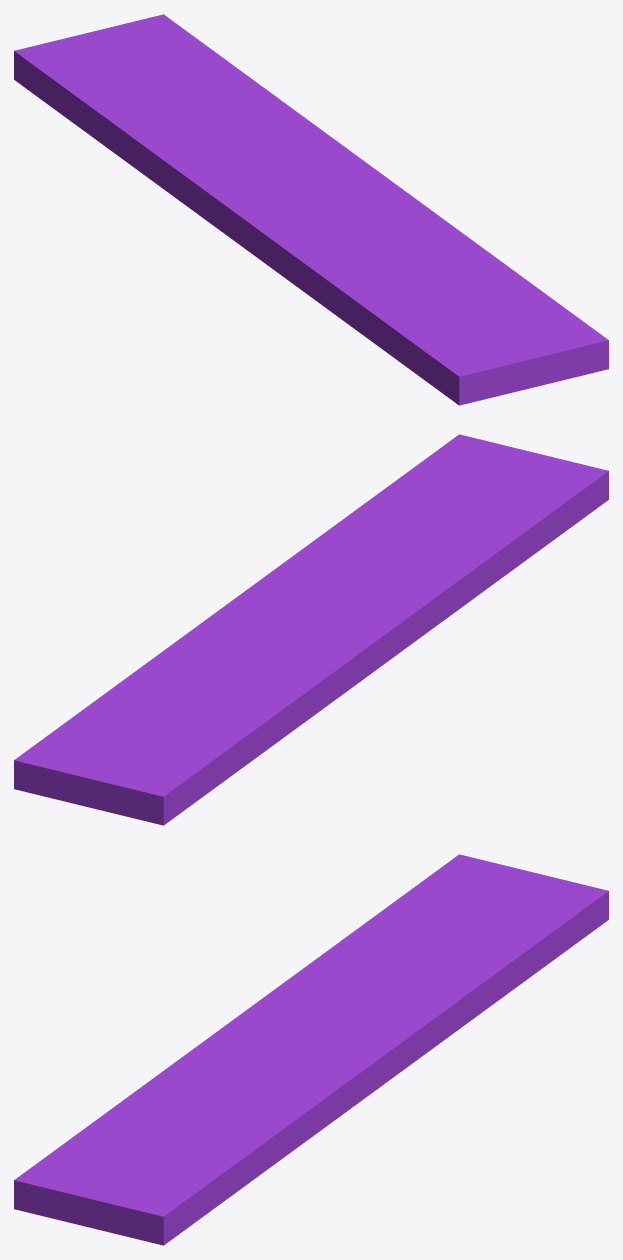
The model's file is StairsStep_79_chunks.fbx.
The picture shows the model from 3 angles, top to bottom: view 1: azimuth 30°, elevation 25°; view 2: azimuth 150°, elevation 25°; view 3: azimuth 330°, elevation 25°; orthographic projection.
Parts seen in each view (by area): view 1: StairsStep_79_2, StairsStep_79_1, StairsStep_79_0, StairsStep_79_3; view 2: StairsStep_79_2, StairsStep_79_1, StairsStep_79_0, StairsStep_79_3; view 3: StairsStep_79_2, StairsStep_79_1, StairsStep_79_0, StairsStep_79_3.
Part boxes in pixels (bbox=[...]): StairsStep_79_2: bbox=[256, 196, 608, 405]; StairsStep_79_1: bbox=[82, 14, 412, 196]; StairsStep_79_0: bbox=[14, 34, 256, 256]; StairsStep_79_3: bbox=[161, 158, 322, 254]; StairsStep_79_2: bbox=[263, 434, 608, 647]; StairsStep_79_1: bbox=[14, 578, 307, 804]; StairsStep_79_0: bbox=[77, 646, 405, 825]; StairsStep_79_3: bbox=[267, 610, 417, 688]; StairsStep_79_2: bbox=[14, 1040, 362, 1245]; StairsStep_79_1: bbox=[315, 871, 608, 1099]; StairsStep_79_0: bbox=[312, 854, 526, 993]; StairsStep_79_3: bbox=[205, 962, 355, 1040].
Bounding box in the file's own units: 157 × 28.98 × 810.
